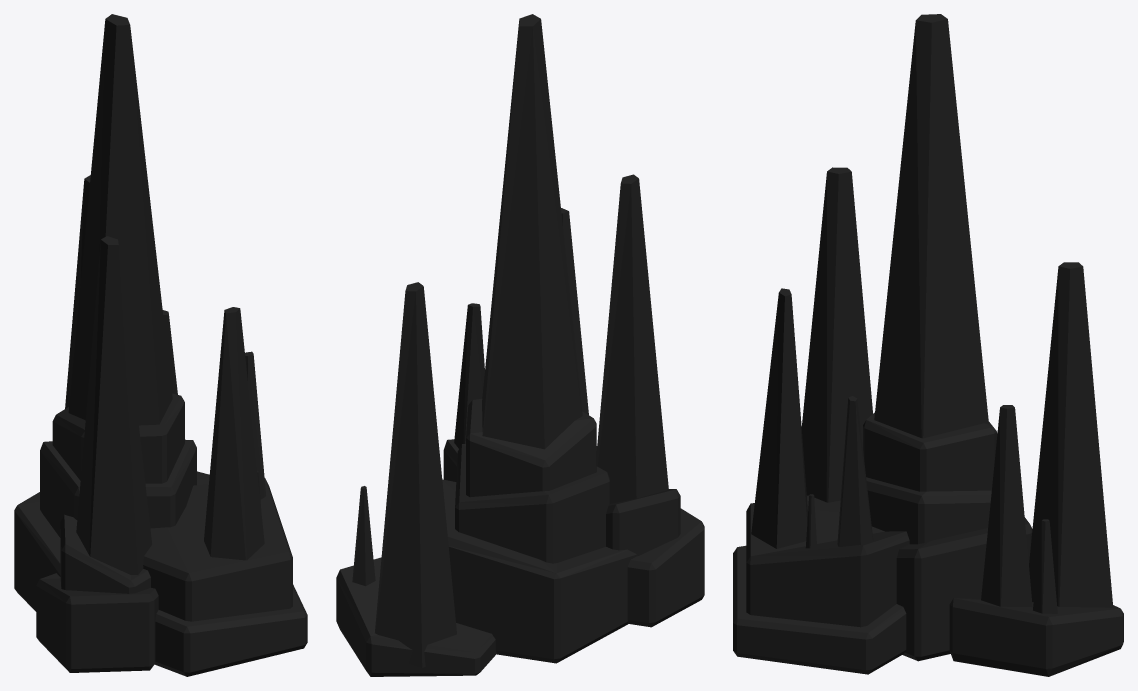
File: stalagtiet_2.fbx
3 views of the same model, side by side, from view 1: azimuth 30°, elevation 25°; view 2: azimuth 150°, elevation 25°; view 3: azimuth 270°, elevation 25° (orthographic). The views are drawn at different scales.
Parts seen in each view (by area): view 1: stalagtiet_2; view 2: stalagtiet_2; view 3: stalagtiet_2.
Boxes of the visible parts, bbox=[...] form: stalagtiet_2: bbox=[14, 14, 307, 676]; stalagtiet_2: bbox=[336, 14, 704, 676]; stalagtiet_2: bbox=[733, 14, 1123, 676].
Size of the model in its own units: 2.33 by 5.42 by 3.19.
